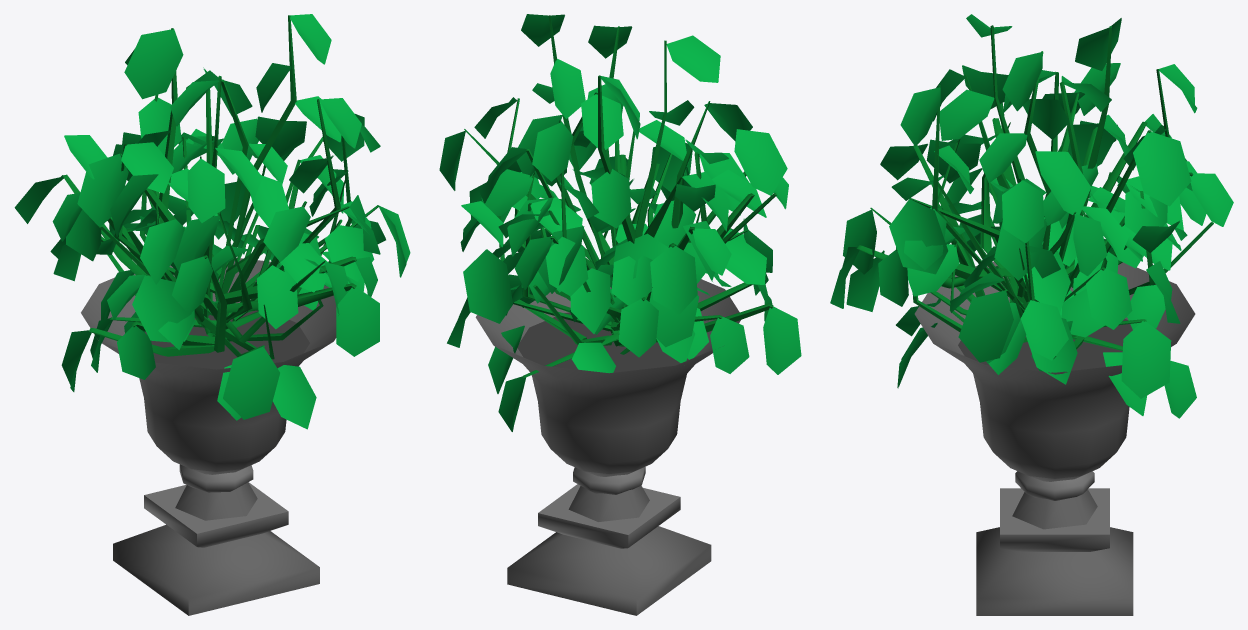
File: flower_028.glb
3 renders of one model, left to right at view 1: azimuth 30°, elevation 25°; view 2: azimuth 150°, elevation 25°; view 3: azimuth 270°, elevation 25°, orthographic. The views are drawn at different scales.
Visible parts, largest first — view 1: flower_028; view 2: flower_028; view 3: flower_028.
Boxes of the visible parts, x1,y1,x2,y2 form: flower_028: [14, 14, 410, 615]; flower_028: [439, 14, 801, 615]; flower_028: [830, 14, 1233, 615].
Size of the model in its own units: 0.6595 by 1.02 by 0.6587.
1 material, 1 textured.
